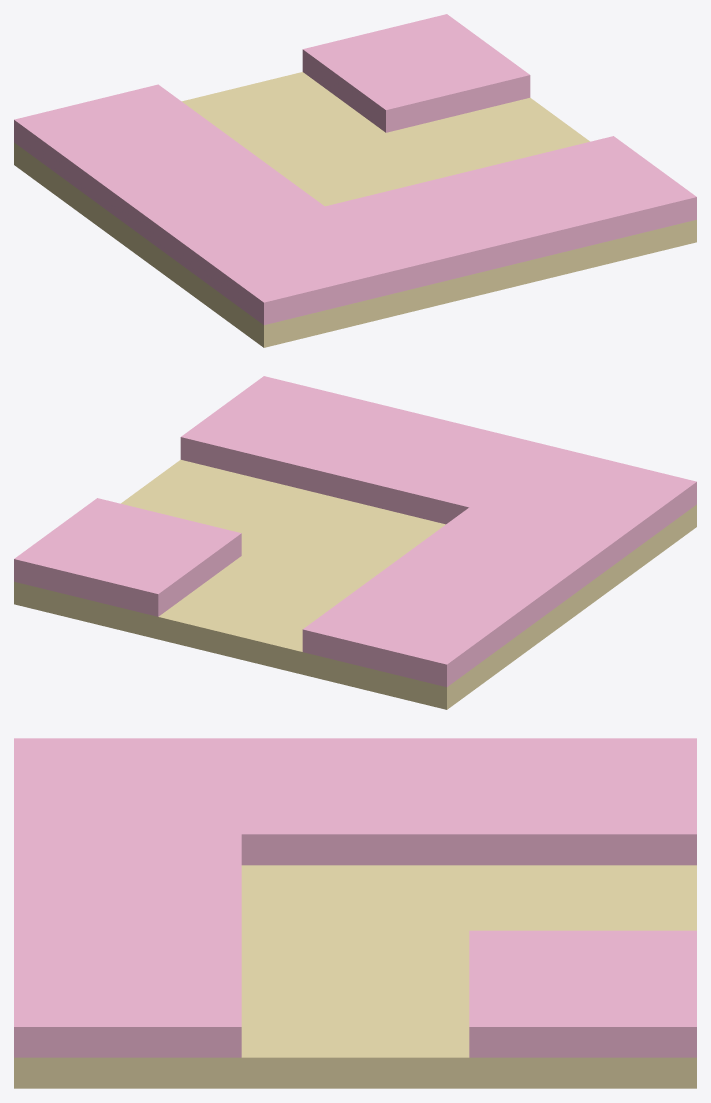
File: CandylandCurve.fbx
3 views of the same model, one above another, from view 1: azimuth 30°, elevation 25°; view 2: azimuth 150°, elevation 25°; view 3: azimuth 270°, elevation 25° (orthographic). The views are drawn at different scales.
Visible parts, largest first — view 1: CandylandCurve; view 2: CandylandCurve; view 3: CandylandCurve.
Boxes of the visible parts, x1,y1,x2,y2 form: CandylandCurve: (14, 14, 696, 347); CandylandCurve: (14, 376, 696, 709); CandylandCurve: (14, 738, 696, 1088).
Size of the model in its own units: 1 by 0.1 by 1.
